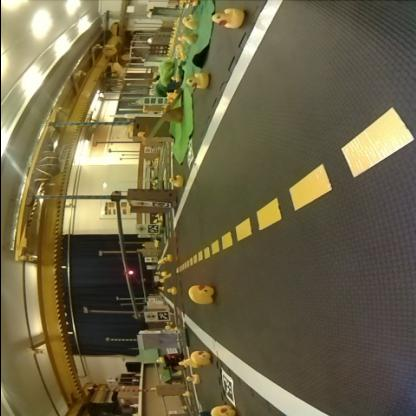Duckie: (210, 10, 244, 30), (187, 285, 213, 305), (186, 73, 208, 89), (189, 352, 209, 366), (211, 405, 235, 415), (168, 179, 180, 188), (184, 377, 196, 385), (166, 289, 174, 295), (155, 358, 163, 364), (162, 258, 168, 262), (180, 392, 184, 397), (160, 274, 164, 276)
QR code: (220, 369, 233, 405), (156, 312, 166, 320), (148, 229, 154, 232)
